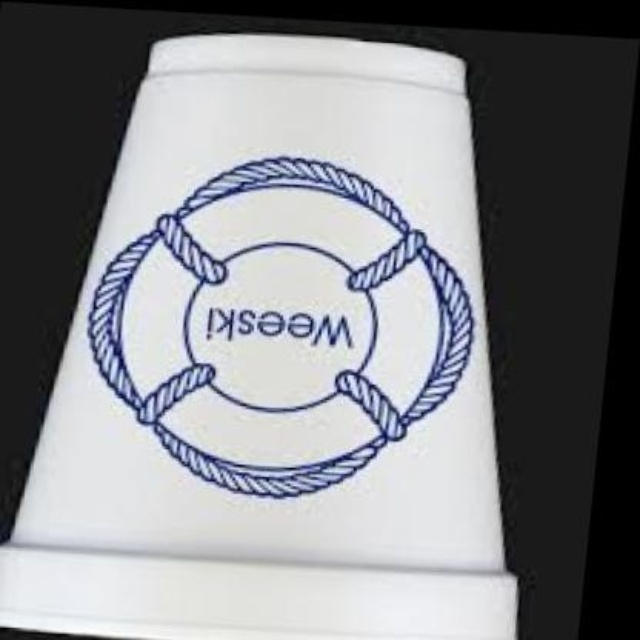trash: (0, 34, 515, 638)
